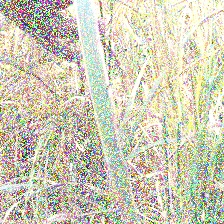Leaf_Blast: (88, 3, 127, 185)
